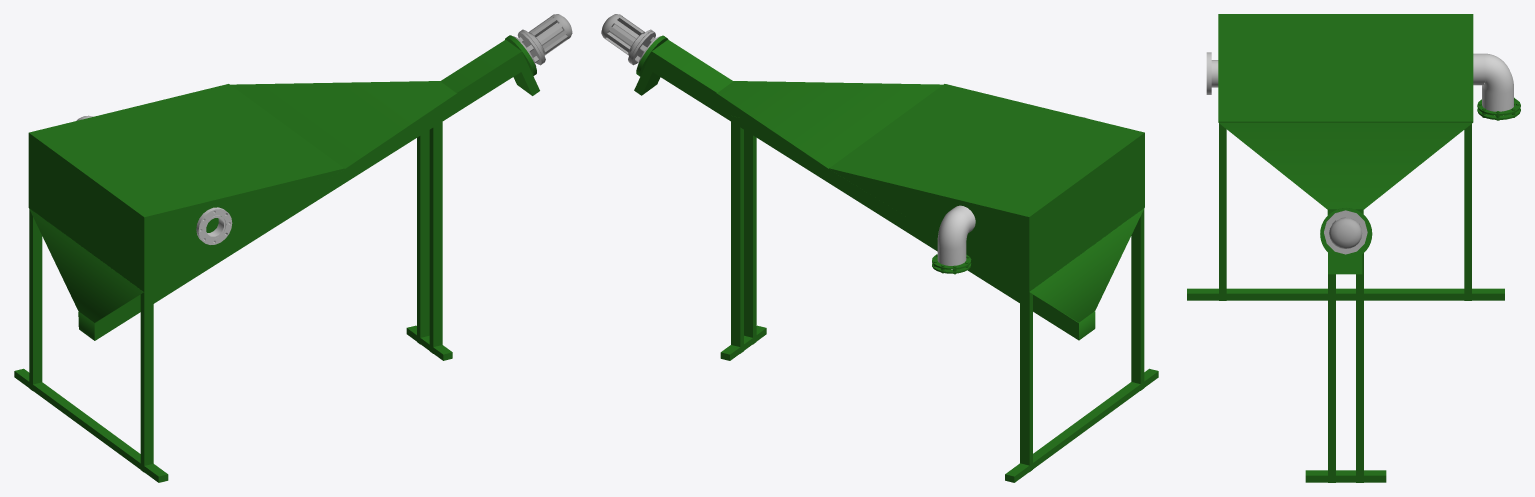
The model's file is sand_transport.obj.
3 renders of one model, left to right at view 1: azimuth 30°, elevation 25°; view 2: azimuth 150°, elevation 25°; view 3: azimuth 270°, elevation 25°, orthographic. The views are drawn at different scales.
Visible parts, largest first — view 1: ___, ___.1, ___.2, ___.5, ___.4, ___.3, ___.7, __.4, __, __.2; view 2: ___, ___.1, ___.2, ___.4, ___.5, ___.3, ___.7, __.1, __.4, __; view 3: ___, ___.1, ___.7, __.1, ___.4, ___.5, __, ___.3, ___.6, __.6, __.2.
Part boxes in pixels (x1,y1,x2,y2): ___: [28, 67, 539, 390]; ___.1: [29, 81, 456, 322]; ___.2: [78, 39, 528, 340]; ___.5: [429, 122, 442, 353]; ___.4: [417, 130, 429, 344]; ___.3: [140, 287, 153, 472]; ___.7: [14, 368, 168, 482]; __.4: [528, 16, 568, 55]; __: [505, 14, 572, 75]; __.2: [196, 56, 538, 244]; ___: [634, 67, 1144, 471]; ___.1: [716, 81, 1144, 322]; ___.2: [644, 39, 1095, 340]; ___.4: [731, 115, 743, 353]; ___.5: [744, 130, 756, 344]; ___.3: [1131, 209, 1144, 390]; ___.7: [1005, 368, 1158, 482]; __.1: [637, 36, 975, 274]; __.4: [605, 16, 645, 55]; __: [601, 14, 668, 76]; ___: [1218, 14, 1473, 300]; ___.1: [1219, 122, 1472, 209]; ___.7: [1187, 288, 1504, 300]; __.1: [1211, 53, 1519, 220]; ___.4: [1356, 253, 1363, 482]; ___.5: [1328, 274, 1335, 482]; __: [1320, 208, 1372, 259]; ___.3: [1219, 123, 1226, 300]; ___.6: [1305, 470, 1386, 482]; __.6: [1324, 210, 1367, 254]; __.2: [1206, 52, 1520, 119].
Bounding box in the file's own units: 1044 × 620 × 567.
